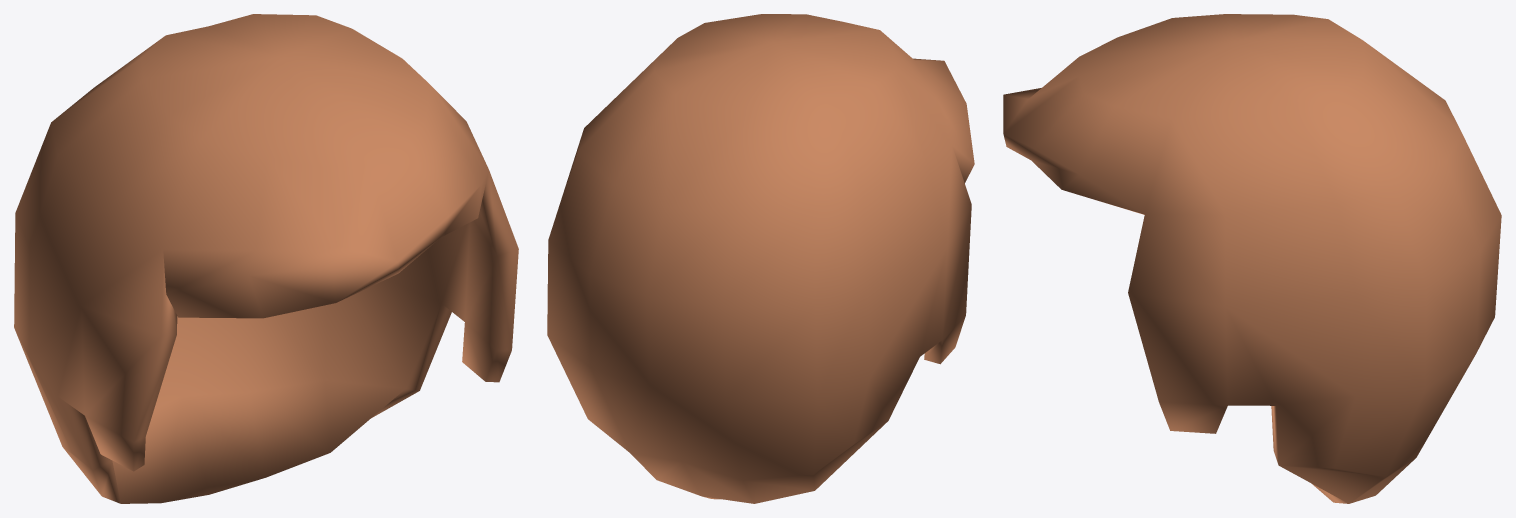
File: Dyhr.fbx
The picture shows the model from 3 angles, left to right: view 1: azimuth 30°, elevation 25°; view 2: azimuth 150°, elevation 25°; view 3: azimuth 270°, elevation 25°; orthographic projection. The views are drawn at different scales.
Parts seen in each view (by area): view 1: 03 Hair - Dyhr; view 2: 03 Hair - Dyhr; view 3: 03 Hair - Dyhr.
Boxes of the visible parts, x1,y1,x2,y2 form: 03 Hair - Dyhr: (14, 14, 518, 503); 03 Hair - Dyhr: (547, 14, 974, 503); 03 Hair - Dyhr: (1003, 14, 1501, 503).
Bounding box in the file's own units: 0.2147 × 0.2459 × 0.2522.
